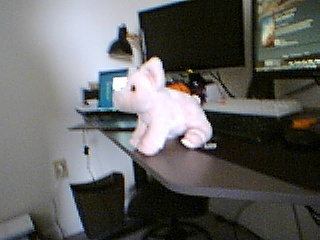piggy: (112, 55, 215, 157)
